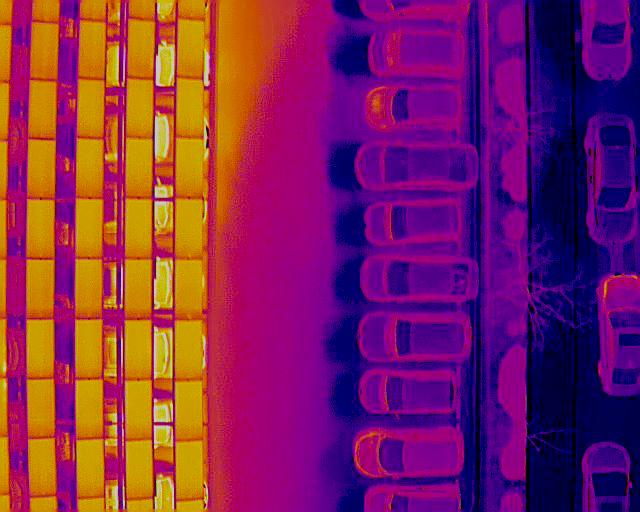No-Anomaly: (76, 80, 106, 139), (27, 139, 56, 200), (26, 200, 55, 261), (26, 260, 55, 319), (76, 140, 104, 200), (76, 319, 104, 379), (176, 440, 203, 502), (126, 78, 154, 137), (125, 137, 152, 198), (76, 199, 103, 260), (175, 260, 202, 321), (76, 379, 103, 440), (27, 320, 55, 378), (30, 78, 56, 140), (30, 21, 58, 78), (125, 200, 152, 259), (175, 320, 202, 379), (125, 320, 152, 379), (28, 380, 55, 439), (79, 21, 106, 80), (128, 19, 155, 78), (124, 381, 151, 440), (176, 138, 202, 199), (176, 379, 202, 440), (76, 260, 103, 318), (177, 78, 203, 138), (126, 440, 152, 500), (29, 440, 56, 497), (125, 260, 151, 319), (177, 19, 203, 78), (77, 441, 103, 500), (176, 197, 201, 258)
